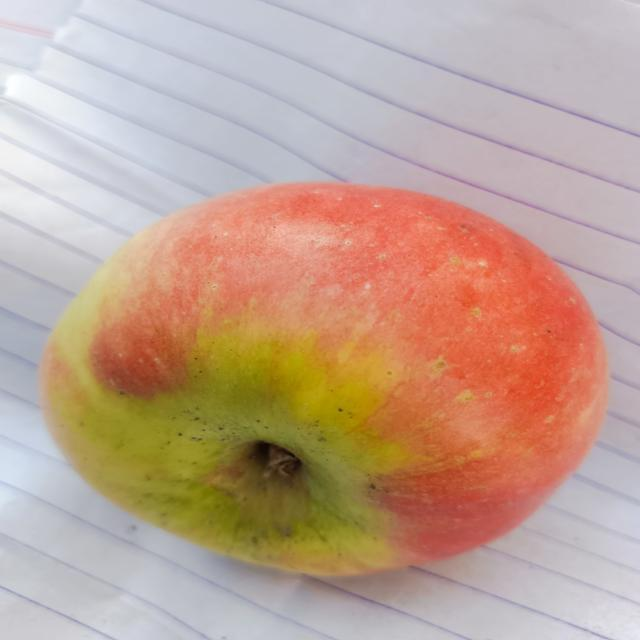Fresh Apple: (36, 175, 610, 571)
